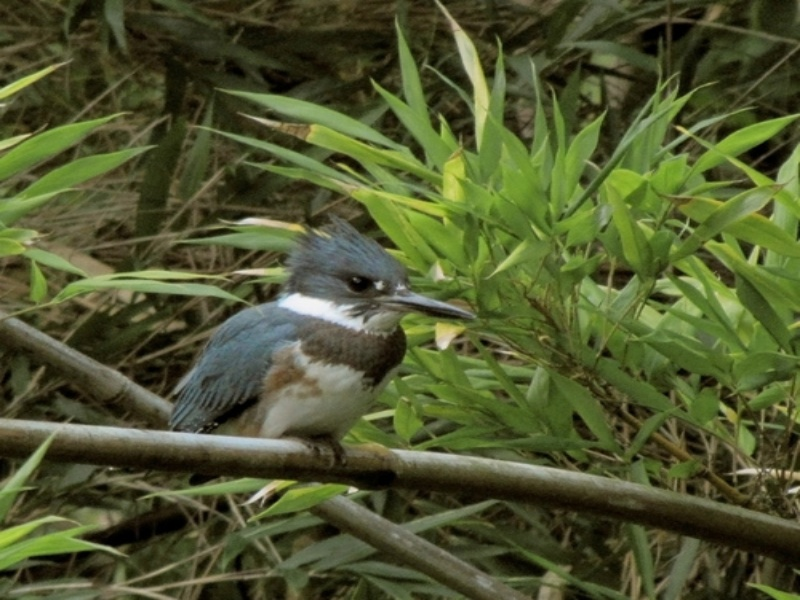kingfisher: (169, 211, 479, 458)
